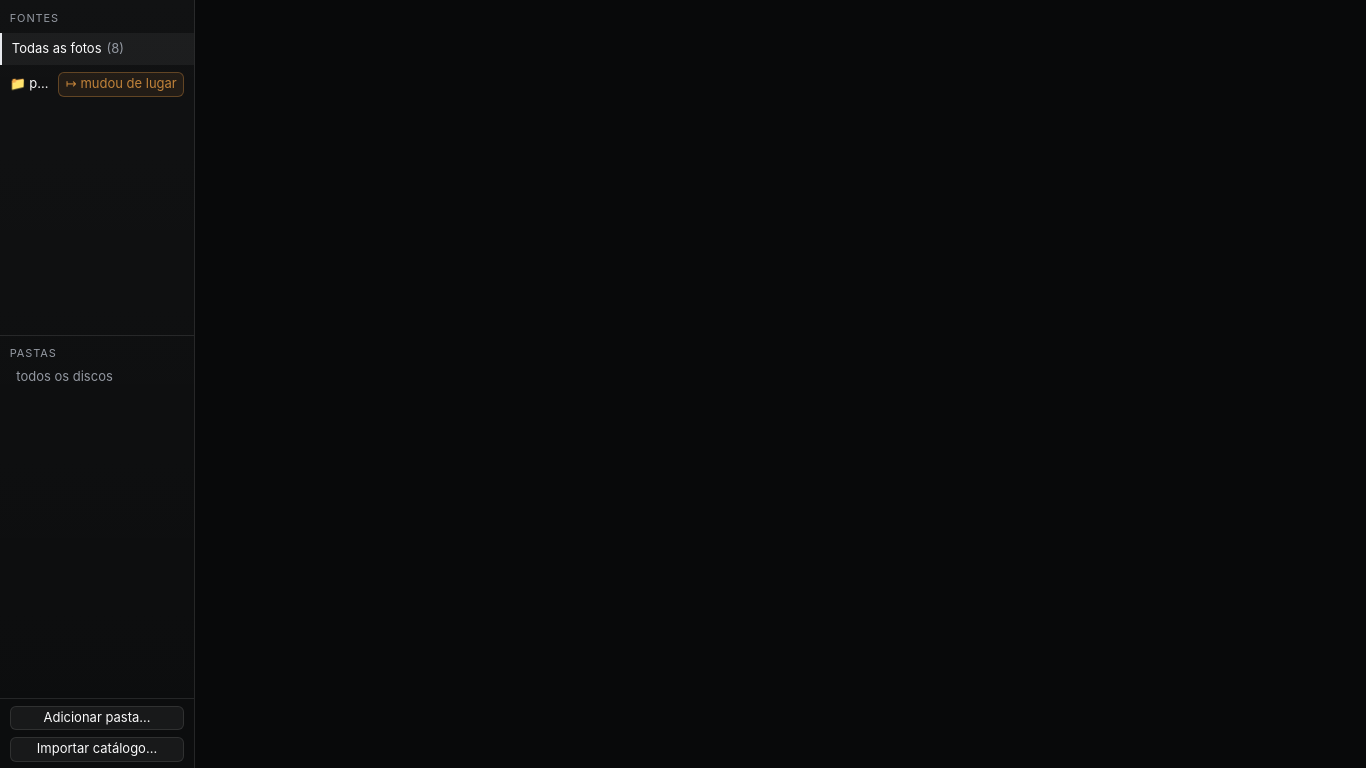
Scenario: Sidebar — reapontar fonte que mudou de lugar › confirmar reaponta e fecha o modal
Click the button "↦ mudou de lugar": (121, 84) [58,72,184,97]
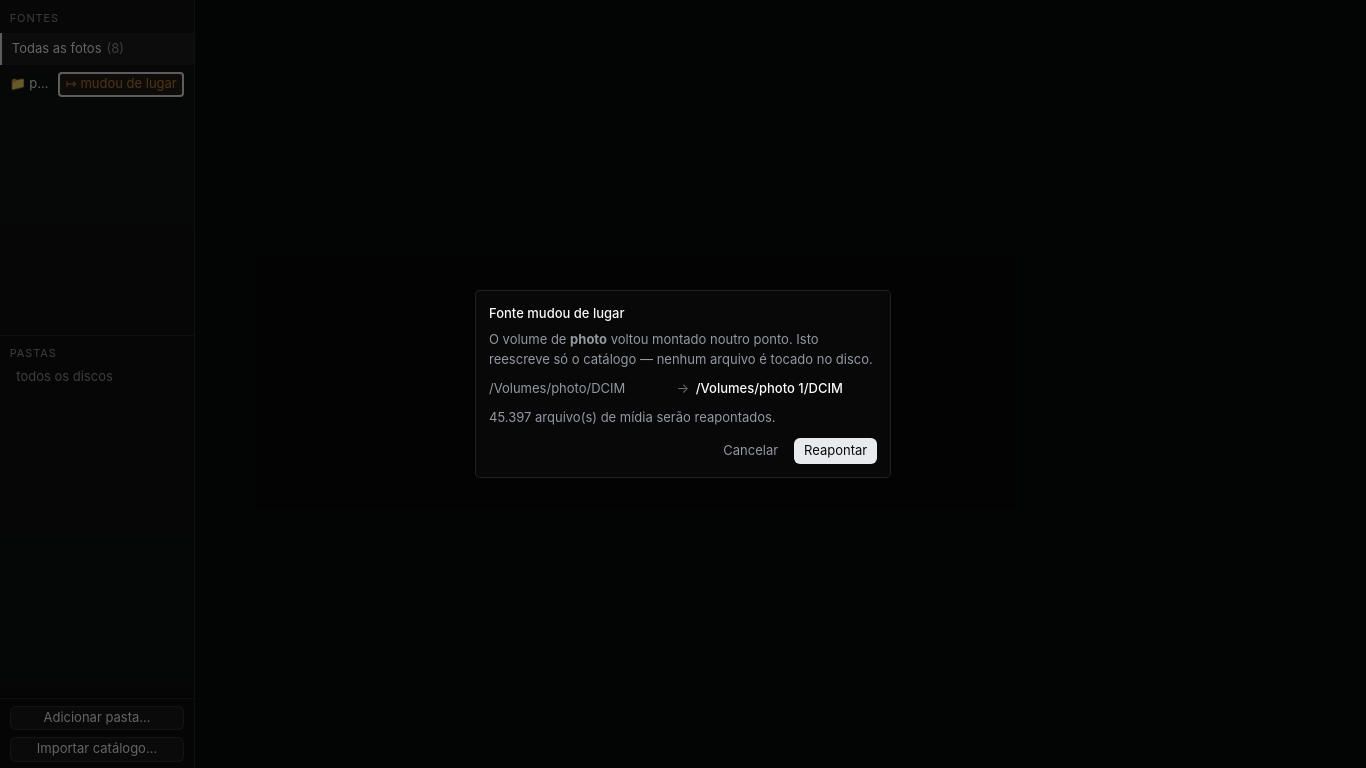
Check: the text "45.397 arquivo(s) de mídia serão reapontados." is shown, box [489,409,776,425]
Click the button "Reapontar": (836, 451) [794,438,877,464]
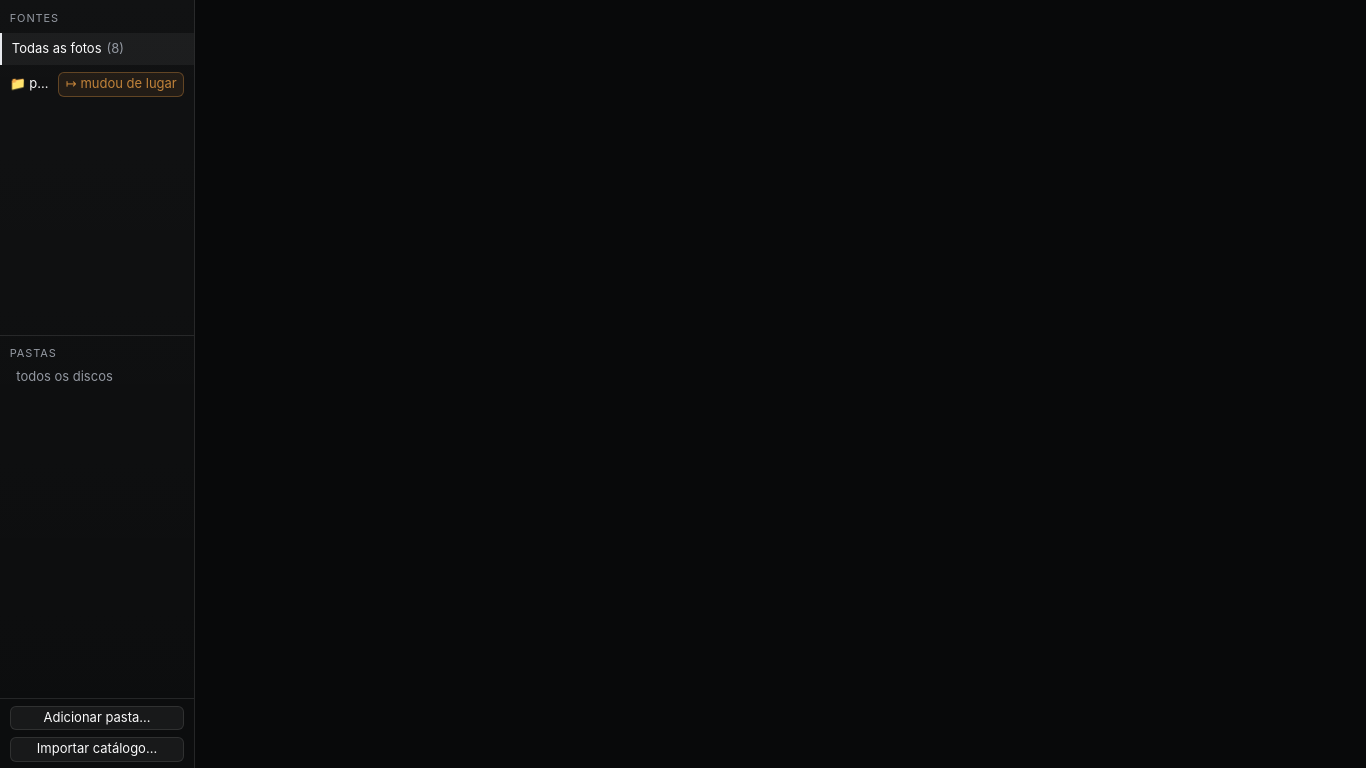
Check: the text "Fonte mudou de lugar" is gone
